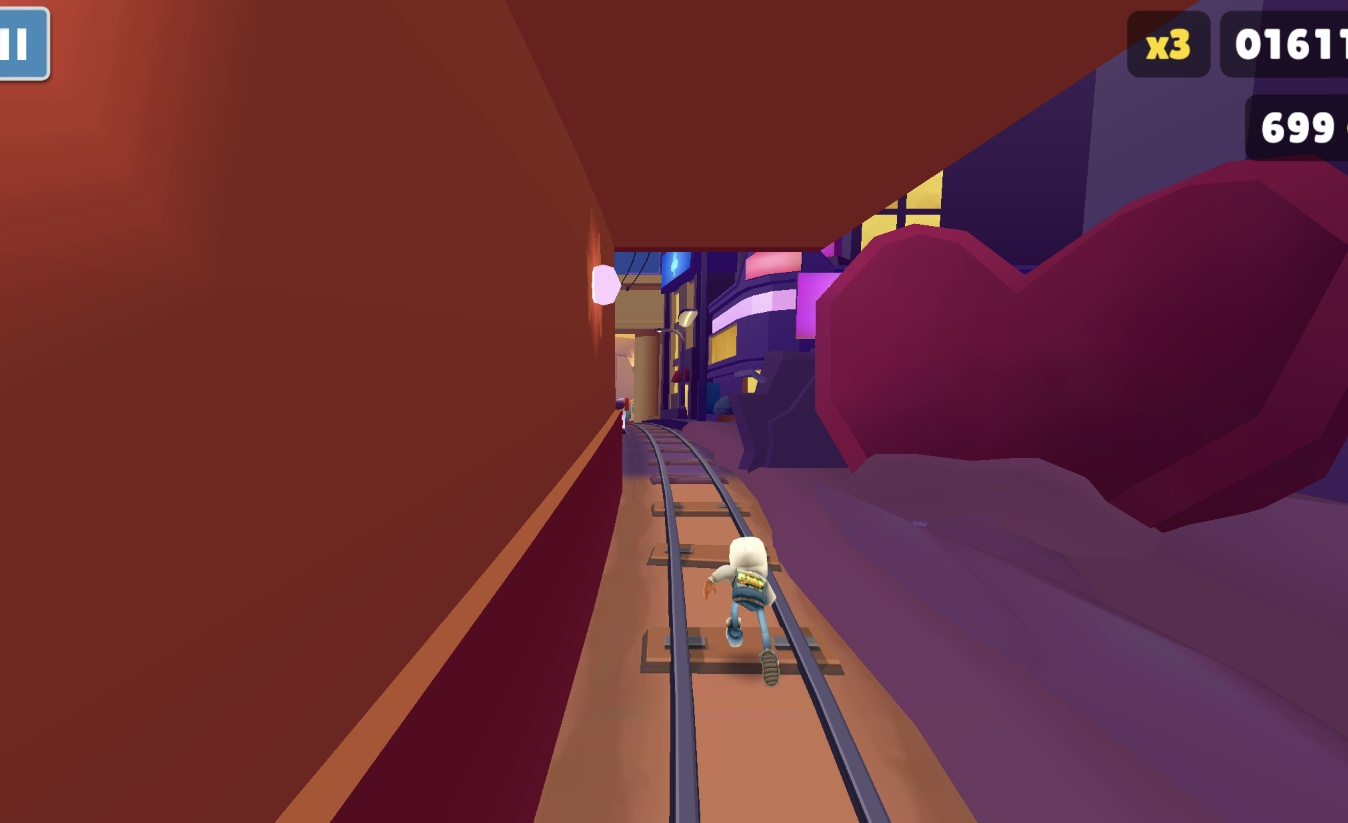pillar: (0, 0, 620, 823)
